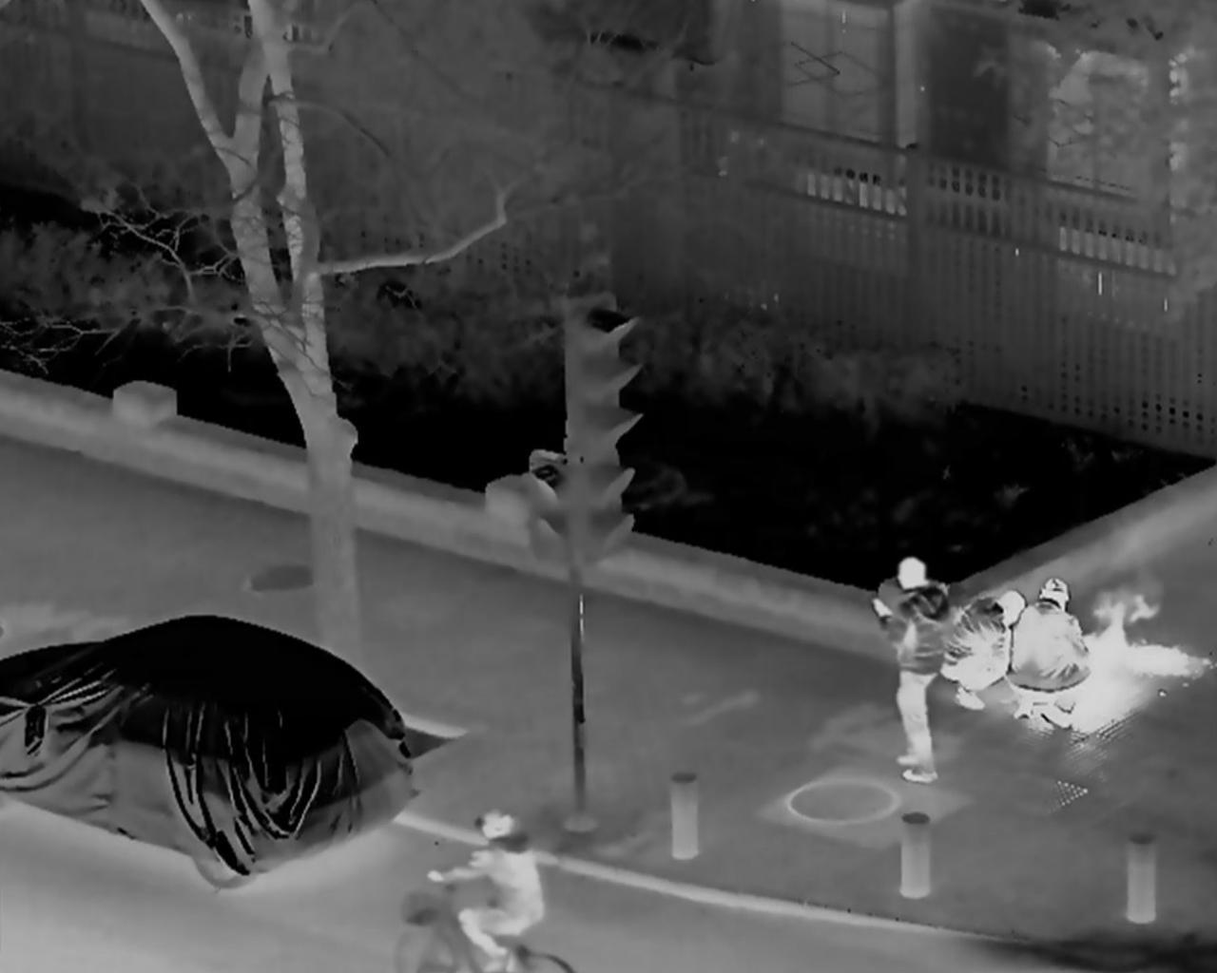person: (429, 813, 548, 969), (872, 559, 952, 786), (1011, 580, 1087, 731), (938, 588, 1022, 710)
